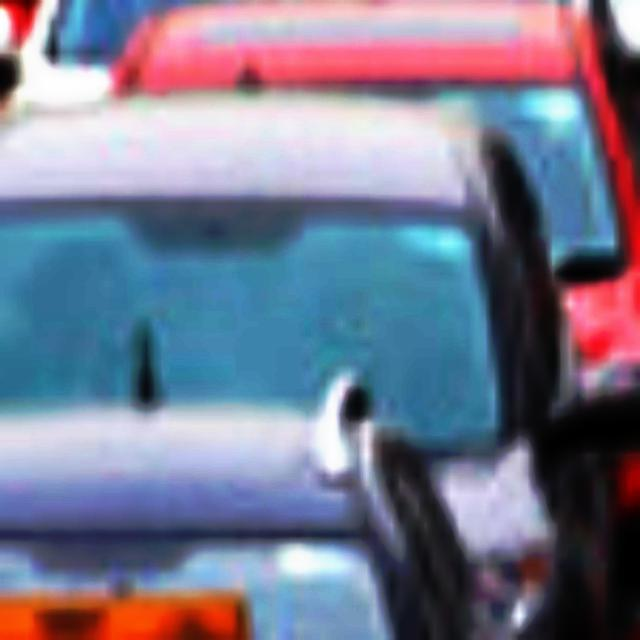Car: (0, 0, 640, 640), (4, 99, 616, 612), (145, 0, 640, 442), (0, 393, 473, 639), (0, 0, 41, 88)
